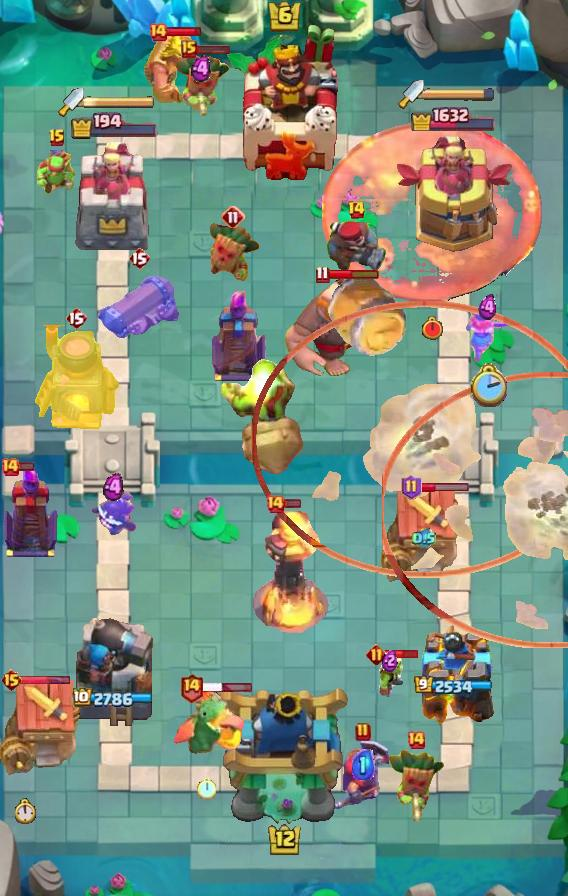balloon: (281, 278, 381, 382)
bar: (391, 132, 515, 256), (73, 140, 155, 256)
battle-healer: (95, 273, 183, 345)
dirt: (323, 272, 409, 360)
electro-dragon: (251, 508, 331, 636)
electro-spirit: (352, 749, 375, 780), (103, 474, 124, 503), (191, 55, 211, 83), (478, 294, 498, 322), (412, 527, 436, 548), (382, 648, 398, 672)
electro-wizard: (168, 685, 244, 759)
elixir: (469, 363, 507, 407), (420, 315, 443, 340), (15, 798, 37, 824), (196, 777, 216, 799)
elixir-golem-big: (330, 738, 396, 812)
emote: (327, 268, 380, 280), (19, 675, 71, 686), (201, 682, 253, 693), (418, 483, 469, 494), (195, 43, 231, 55), (385, 648, 420, 660), (166, 26, 203, 37), (283, 498, 302, 510), (17, 460, 36, 471)
giant-snowball: (36, 150, 78, 196)
goblin-barrel: (386, 748, 446, 824), (171, 51, 231, 119), (205, 219, 261, 283)
goblin-hut: (138, 28, 210, 116)
hog-rider: (464, 310, 512, 364)
hunter: (31, 325, 121, 433)
ice-spirit-evolution-symbol: (0, 463, 60, 559), (209, 291, 269, 383)
king-tower: (216, 684, 352, 826), (224, 23, 344, 181)
king-tower-bar: (424, 87, 496, 101), (84, 95, 156, 109)
phoenix-egg: (322, 121, 542, 302)
phoenix-small: (324, 218, 388, 272)
queen-tower: (411, 619, 495, 731)
royal-ghost: (252, 301, 568, 578), (382, 372, 568, 648)
selected: (69, 112, 158, 140), (411, 104, 498, 131), (73, 687, 155, 709), (414, 676, 494, 696)
sparky: (381, 486, 467, 584), (0, 679, 86, 777)
spear-goblin: (89, 488, 137, 536)
text: (179, 672, 204, 703), (221, 205, 245, 229), (1, 668, 24, 692), (401, 474, 422, 500), (128, 246, 150, 270), (65, 306, 87, 330), (366, 644, 387, 665), (148, 22, 168, 42), (0, 457, 20, 477), (265, 494, 285, 514), (406, 730, 426, 750), (347, 200, 366, 220), (48, 128, 66, 148), (355, 722, 371, 742), (181, 40, 197, 58), (314, 265, 329, 284)
tower-bar: (71, 611, 157, 731)
x-bow: (216, 335, 310, 479)
zap: (374, 653, 406, 701)
